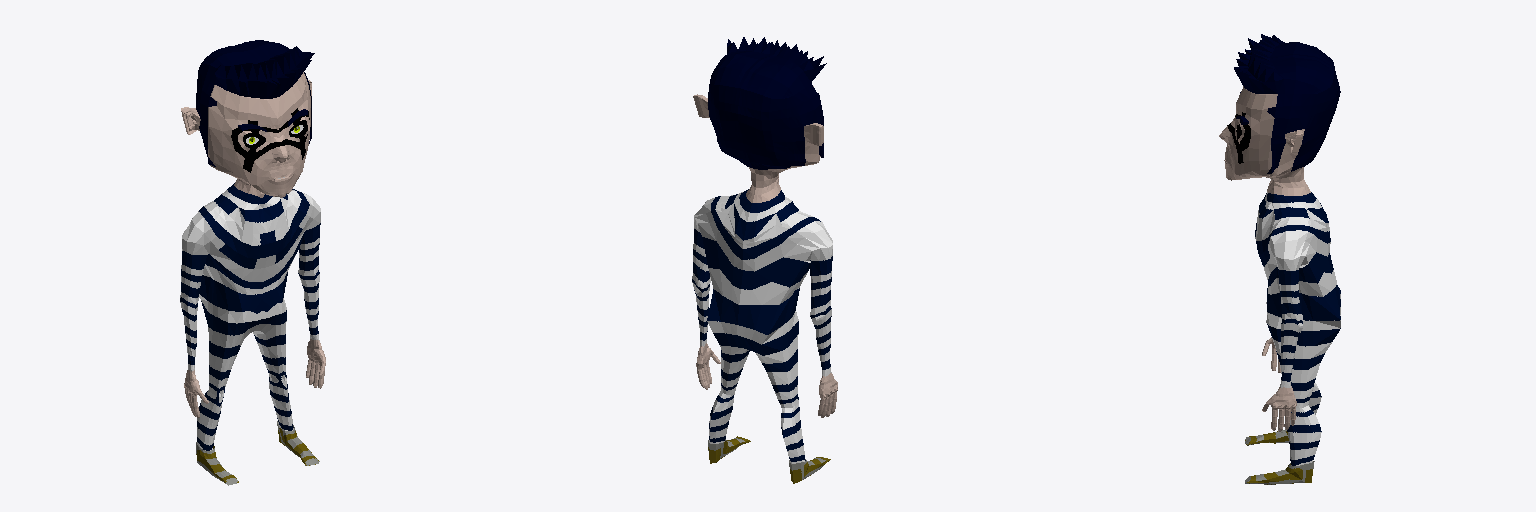
3 views of the same model, side by side, from view 1: azimuth 30°, elevation 25°; view 2: azimuth 150°, elevation 25°; view 3: azimuth 270°, elevation 25° (orthographic).
Visible parts, largest first — view 1: SpengBody; view 2: SpengBody; view 3: SpengBody.
Boxes of the visible parts, <box> form: SpengBody: <box>180,40,325,485</box>; SpengBody: <box>692,37,837,483</box>; SpengBody: <box>1219,34,1340,484</box>.
Bounding box in the file's own units: 0.5939 × 1.72 × 0.4619.
1 materials, 1 textured.